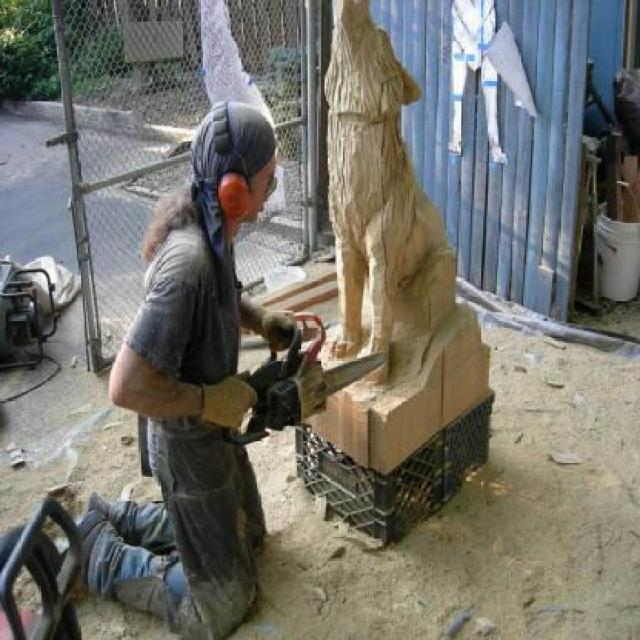Chainsaw: (226, 314, 391, 444)
